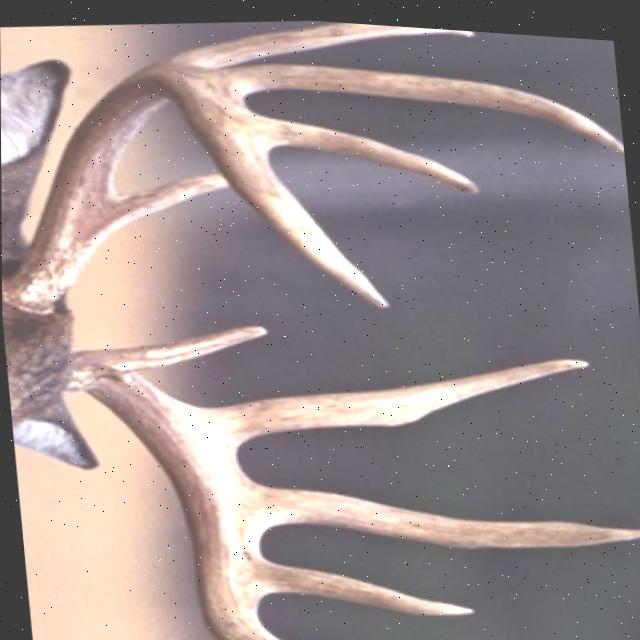L-F: (2, 61, 389, 314)
L-G2: (154, 18, 477, 66)
L-G3: (215, 60, 624, 144)
L-G4: (247, 107, 480, 188)
R-G1: (100, 321, 266, 370)
R-G2: (201, 351, 589, 442)
R-G3: (252, 479, 640, 542)
R-G4: (257, 556, 472, 610)
